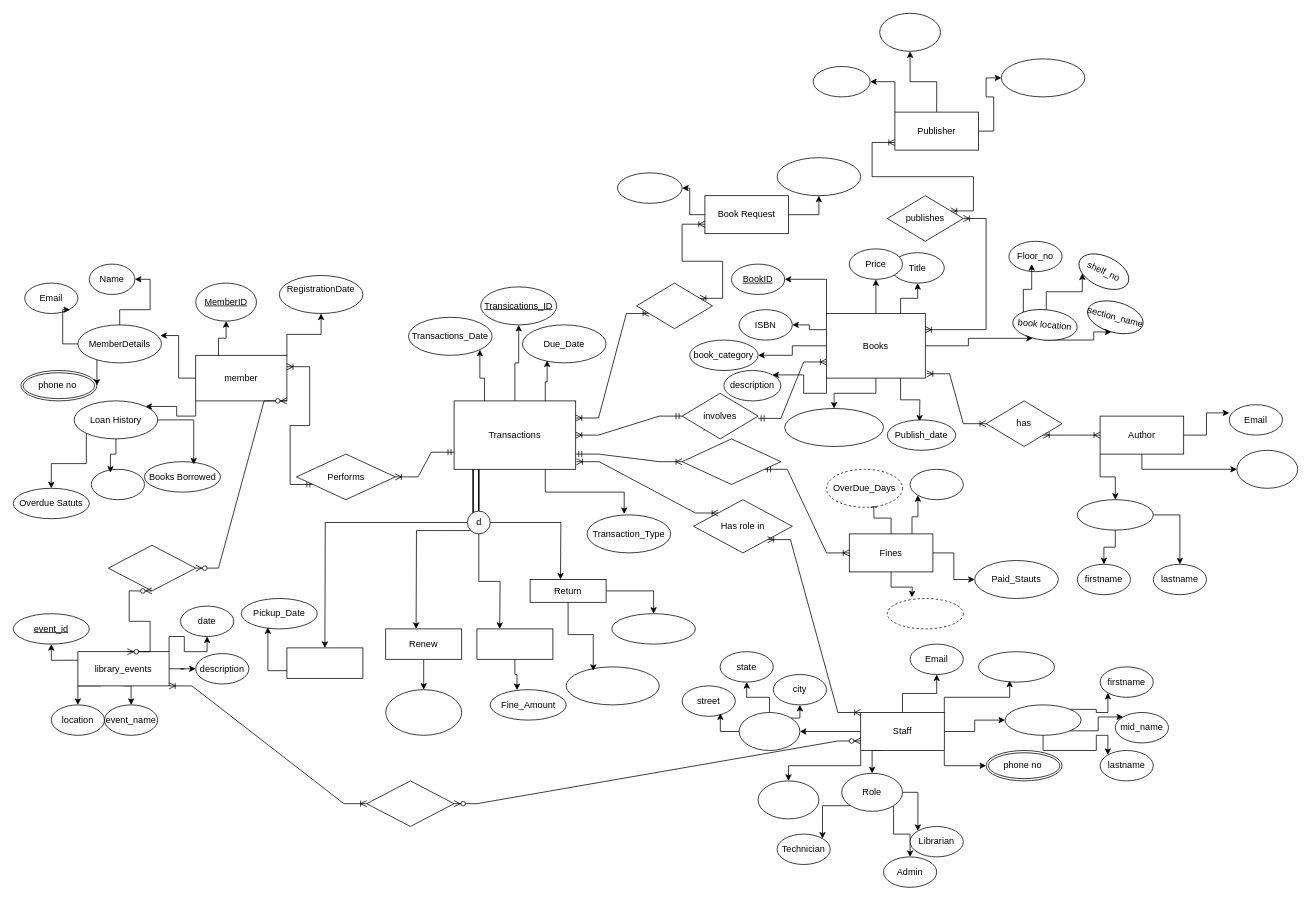
Image size: 1311x901. Some labels were removed from this diagram. Here are the shapes that lost their labels. From the top down, the centre of each, then its label:
At pixel 909 32: "Publisher_ID".
At pixel 841 81: "Pub_Name".
At pixel 1043 77: "language".
At pixel 649 187: "Request_ID".
At pixel 818 176: "request_date".
At pixel 674 305: "Must".
At pixel 834 427: "AvailabilityStatus".
At pixel 731 461: "Results in".
At pixel 1267 469: "Author_ID".
At pixel 117 484: "Return Date".
At pixel 936 484: "FineID".
At pixel 1115 514: "Author_name".
At pixel 152 568: "attend".
At pixel 653 628: "Previous_Due_Date".
At pixel 925 613: "fine_total".
At pixel 324 662: "Reserve".
At pixel 514 643: "Borrow".
At pixel 612 685: "Renewal_Count".
At pixel 1016 666: "Staff_ID".
At pixel 423 712: "Loan_Period".
At pixel 769 731: "address".
At pixel 1042 719: "Sta_Name".
At pixel 410 803: "oraganise".
At pixel 788 799: "hire_date".
